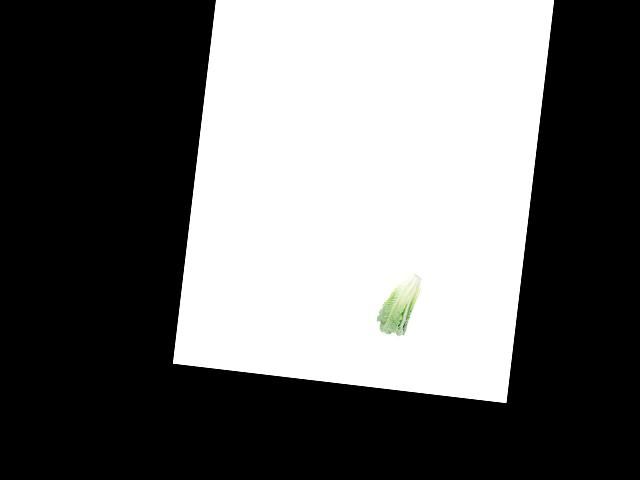lettuce: (376, 266, 424, 339)
